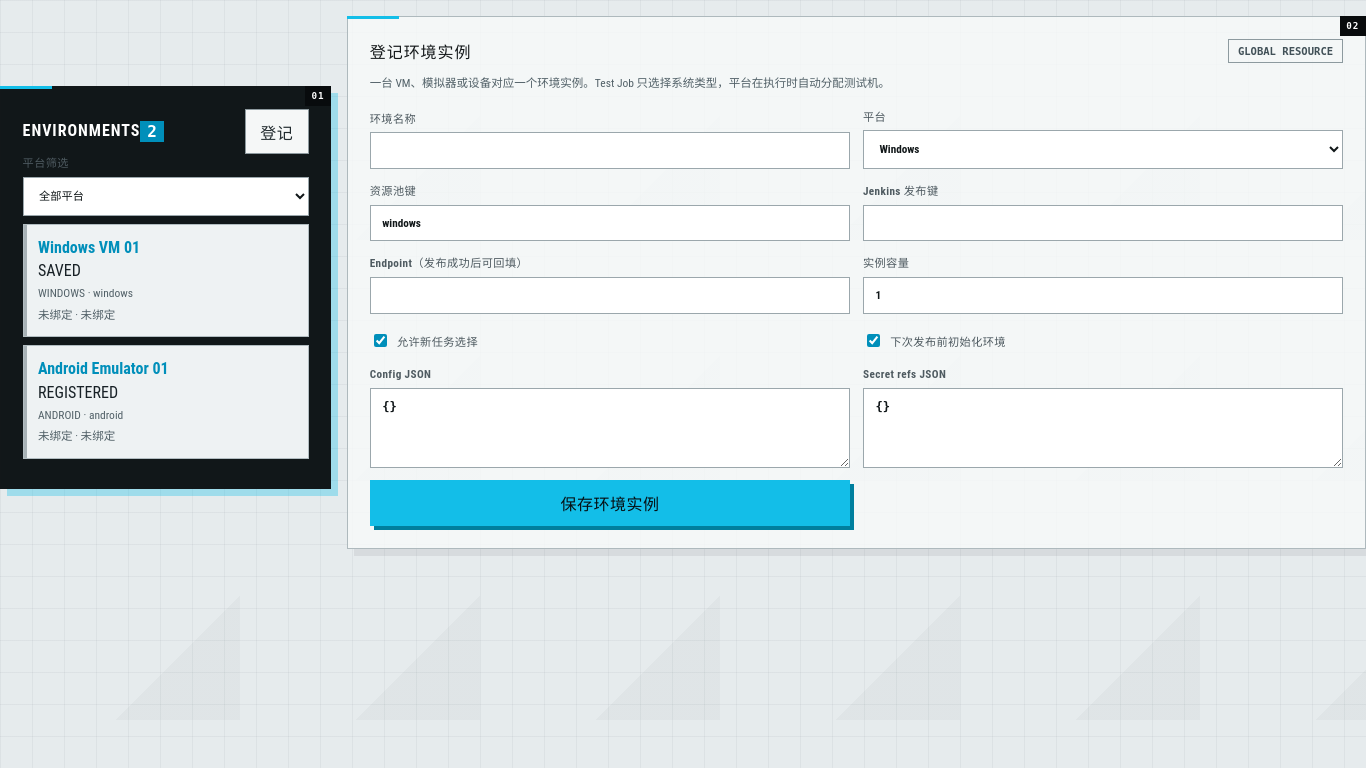
Test: EnvironmentManagement › shows shared multi-platform environments outside Project management
Click the button with class "run-row" that starts with "Windows VM 01".
click(89, 247)  # box [23, 224, 308, 337]
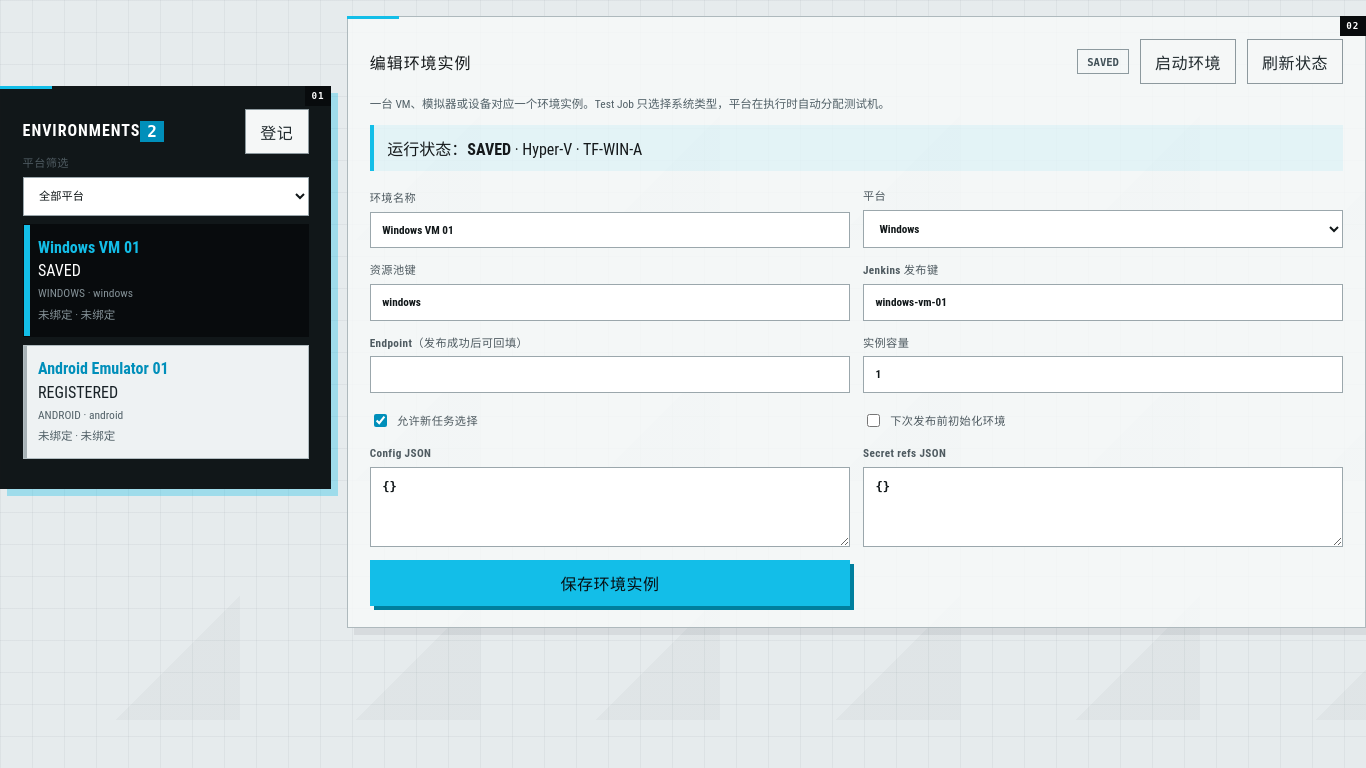
Click the button "启动环境".
click(1188, 62)  # box [1140, 39, 1236, 84]
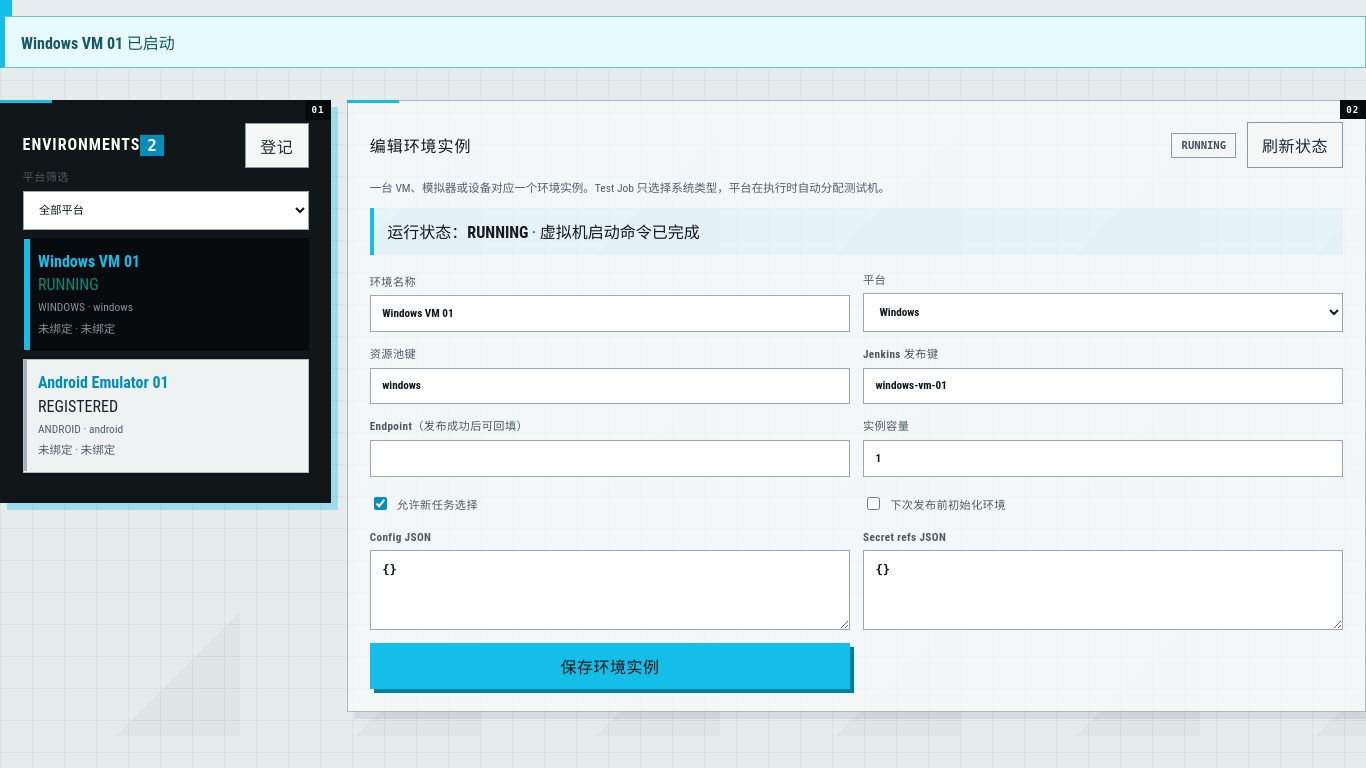
Result: the text "Windows VM 01 已启动" is shown at [0, 16, 1365, 68]
Result: the text "RUNNING" is shown at [38, 275, 99, 294]
